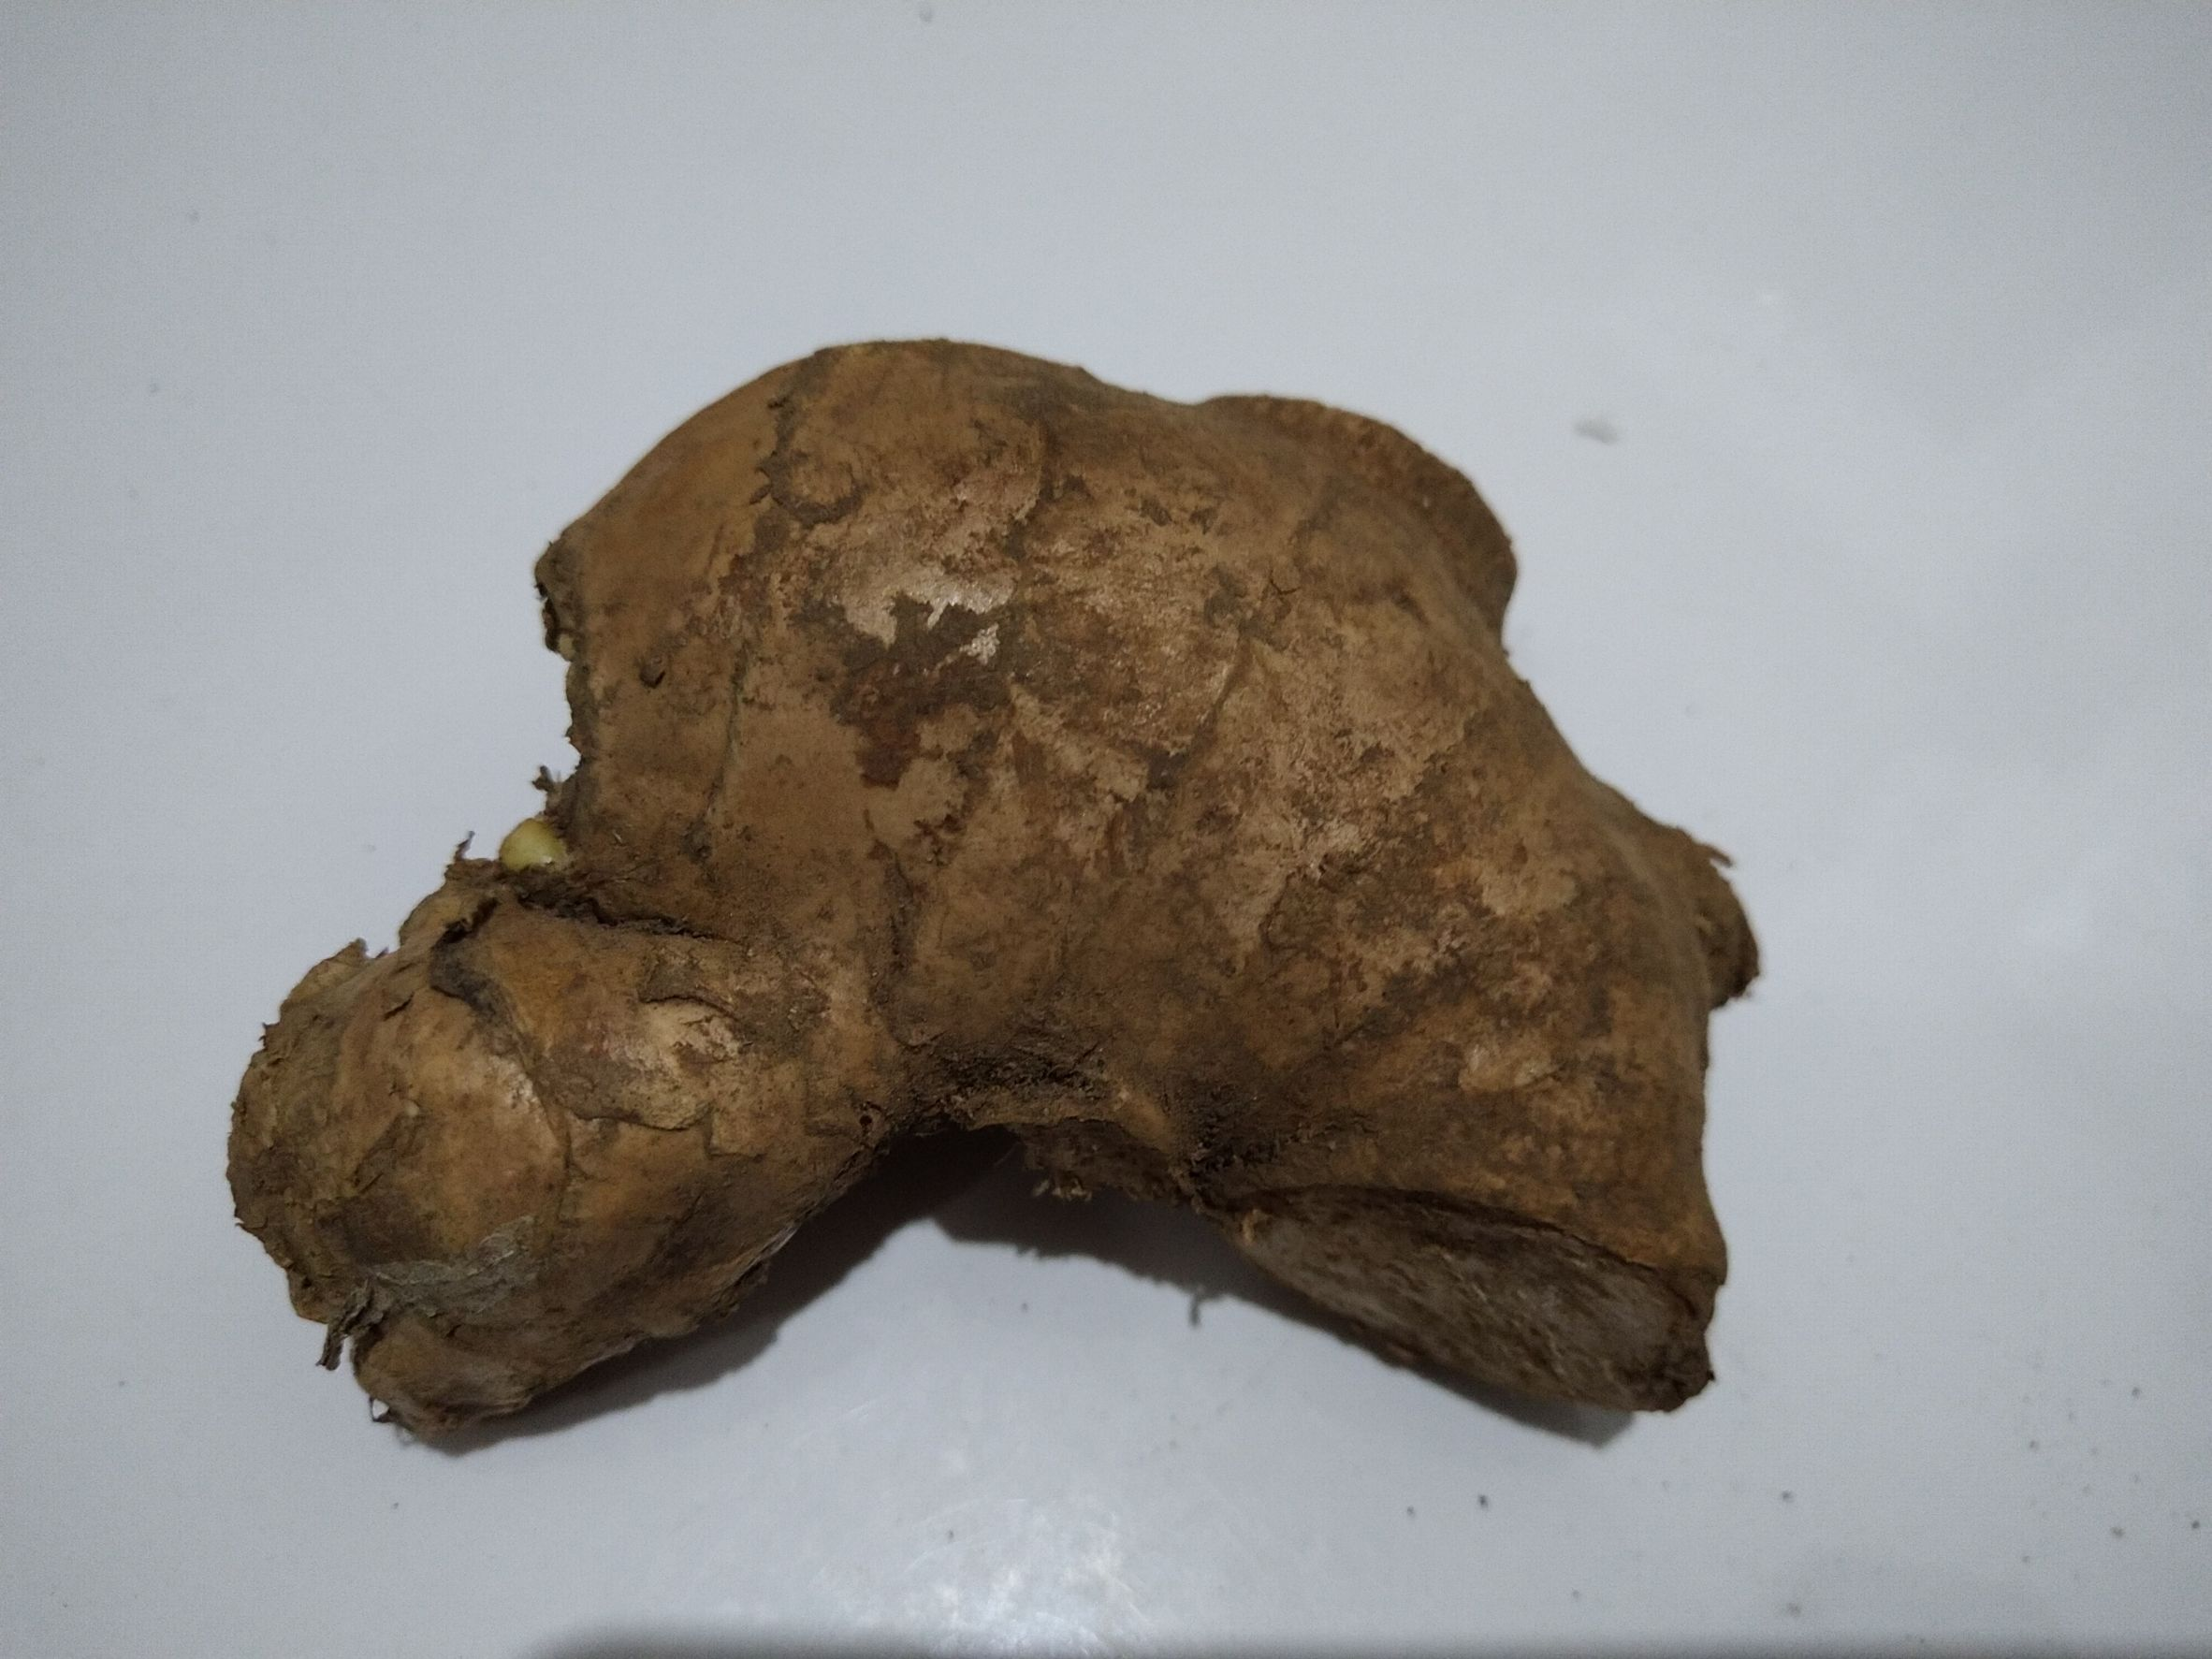Jahe: (298, 310, 1733, 1497)
